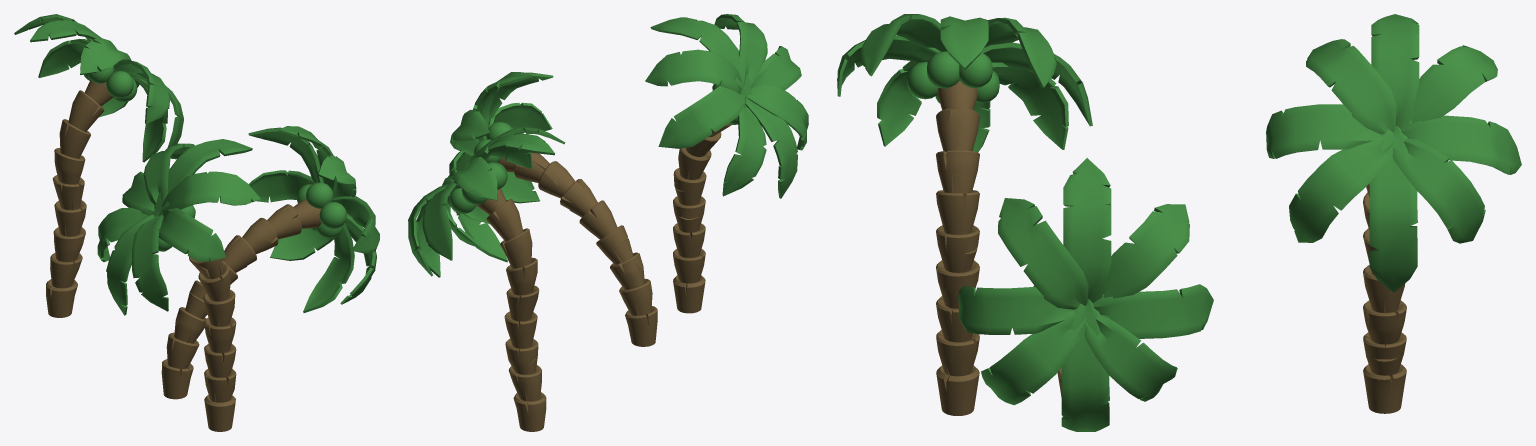
File: Palms.fbx
3 renders of one model, left to right at view 1: azimuth 30°, elevation 25°; view 2: azimuth 150°, elevation 25°; view 3: azimuth 270°, elevation 25°, orthographic. The views are drawn at different scales.
Parts seen in each view (by area): view 1: PalmLeafes (×2), pasted__PalmLeafes, polySurface168, Palm_Cylinder7, Palm_Cylinder, pasted__Palm_Cylinder, Palm_Cylinder6, polySurface162, polySurface161, polySurface163, polySurface167, Palm_Cylinder3 (+17 smaller); view 2: PalmLeafes (×2), pasted__PalmLeafes, polySurface168, Palm_Cylinder7, Palm_Cylinder, pasted__Palm_Cylinder, polySurface164, polySurface165, polySurface163, polySurface162, Palm_Cylinder6, polySurface166 (+14 smaller); view 3: PalmLeafes (×2), pasted__PalmLeafes, pasted__Palm_Cylinder7, pasted__Palm_Cylinder6, pasted__Palm_Cylinder, pasted__Palm_Cylinder5, Palm_Cylinder, pasted__Palm_Cylinder4, pasted__Palm_Cylinder1, Palm_Cylinder2, Palm_Cylinder1, pasted__Palm_Cylinder3 (+6 smaller).
Part boxes in pixels (x1,y1,x2,y2): PalmLeafes (×2): (97,126,379,315); pasted__PalmLeafes: (14,14,183,162); polySurface168: (161,359,193,399); Palm_Cylinder7: (68,90,104,131); Palm_Cylinder: (46,279,77,317); pasted__Palm_Cylinder: (204,395,235,431); Palm_Cylinder6: (59,119,90,158); polySurface162: (242,217,278,254); polySurface161: (267,204,301,239); polySurface163: (222,235,256,272); polySurface167: (166,332,199,368); Palm_Cylinder3: (54,200,86,236); PalmLeafes (×2): (446,14,808,262); pasted__PalmLeafes: (408,126,565,277); polySurface168: (625,306,657,346); Palm_Cylinder7: (486,199,523,241); Palm_Cylinder: (513,392,546,431); pasted__Palm_Cylinder: (673,275,705,313); polySurface164: (579,200,617,239); polySurface165: (596,225,633,264); polySurface163: (560,179,597,217); polySurface162: (538,161,575,198); Palm_Cylinder6: (500,228,532,268); polySurface166: (610,252,644,289); PalmLeafes (×2): (837,14,1213,431); pasted__PalmLeafes: (1266,14,1521,292); pasted__Palm_Cylinder7: (936,107,979,151); pasted__Palm_Cylinder6: (936,150,979,193); pasted__Palm_Cylinder: (936,365,979,415); pasted__Palm_Cylinder5: (936,190,979,234); Palm_Cylinder: (1363,364,1406,413); pasted__Palm_Cylinder4: (936,225,979,272); pasted__Palm_Cylinder1: (936,330,979,376); Palm_Cylinder2: (1363,300,1406,344); Palm_Cylinder1: (1363,332,1406,375); pasted__Palm_Cylinder3: (936,260,979,308).
Size of the model in its own units: 1793 by 1715 by 2757.
